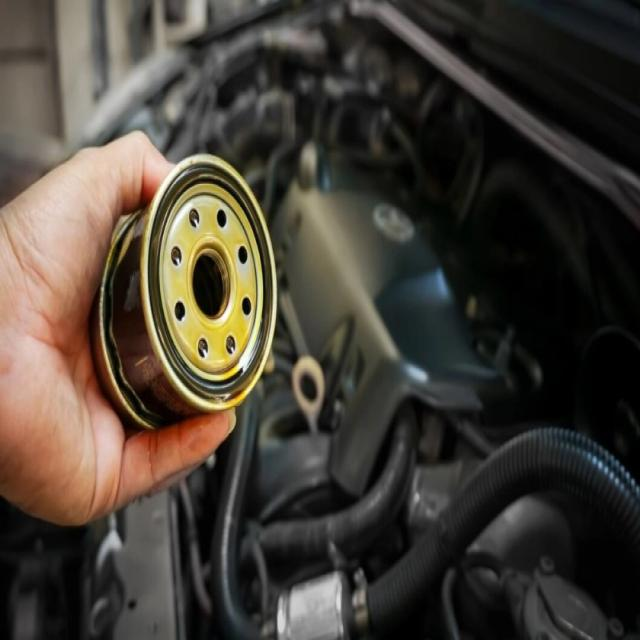oil_filter: (96, 181, 278, 412)
